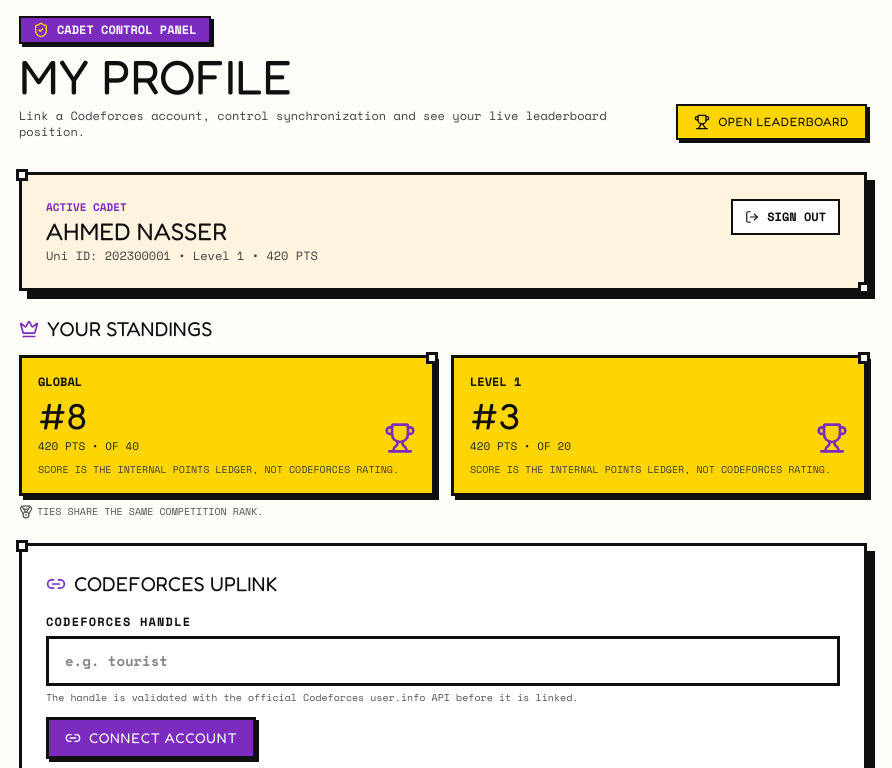
Test: ProfilePage › links a handle and reports the sync result
In the field with placeholder "e.g. tourist": (443, 661) [46,636,840,686], type "tourist"
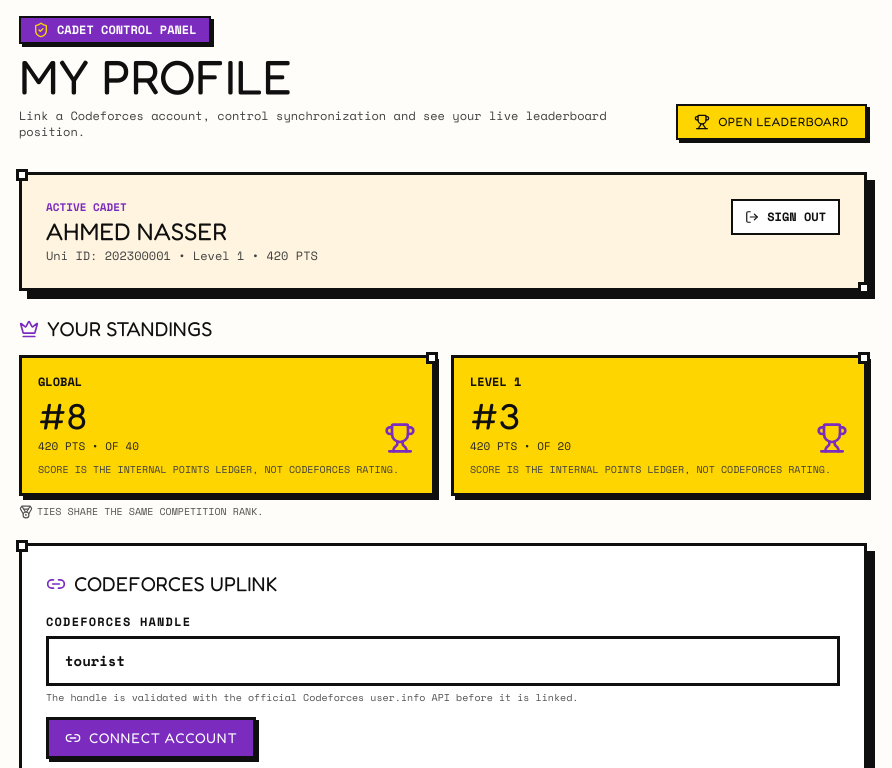
Click the button "Connect account": click(151, 738) [46,717,256,759]
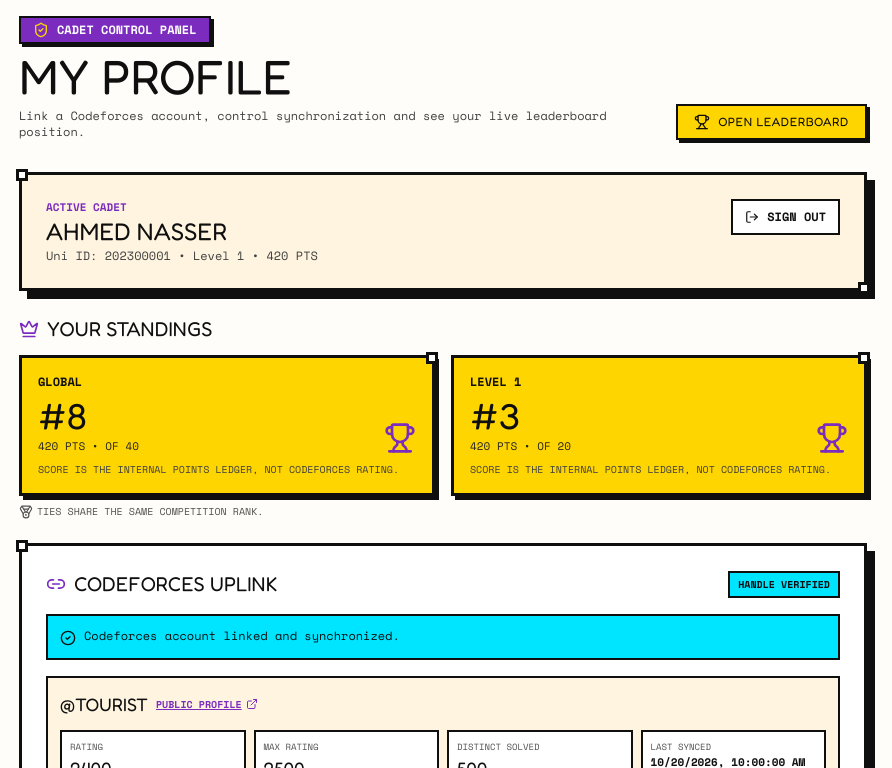
Result: the text "Codeforces account linked and synchronized." is shown at [84,628,400,644]
